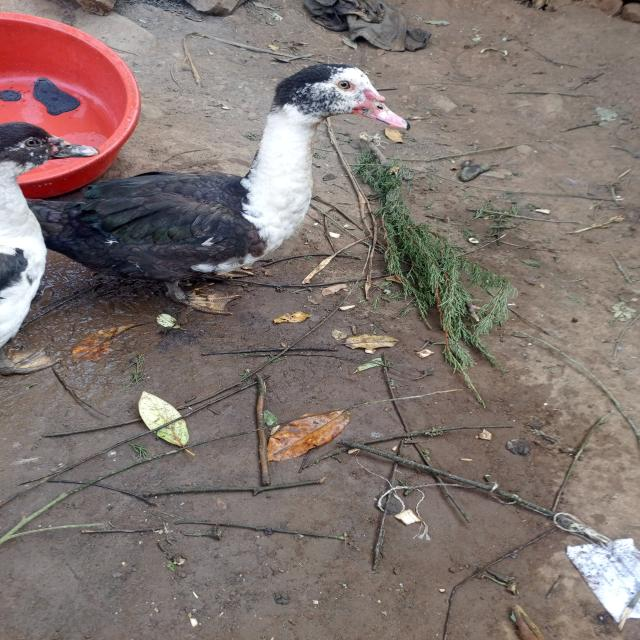pig: (13, 36, 446, 336)
